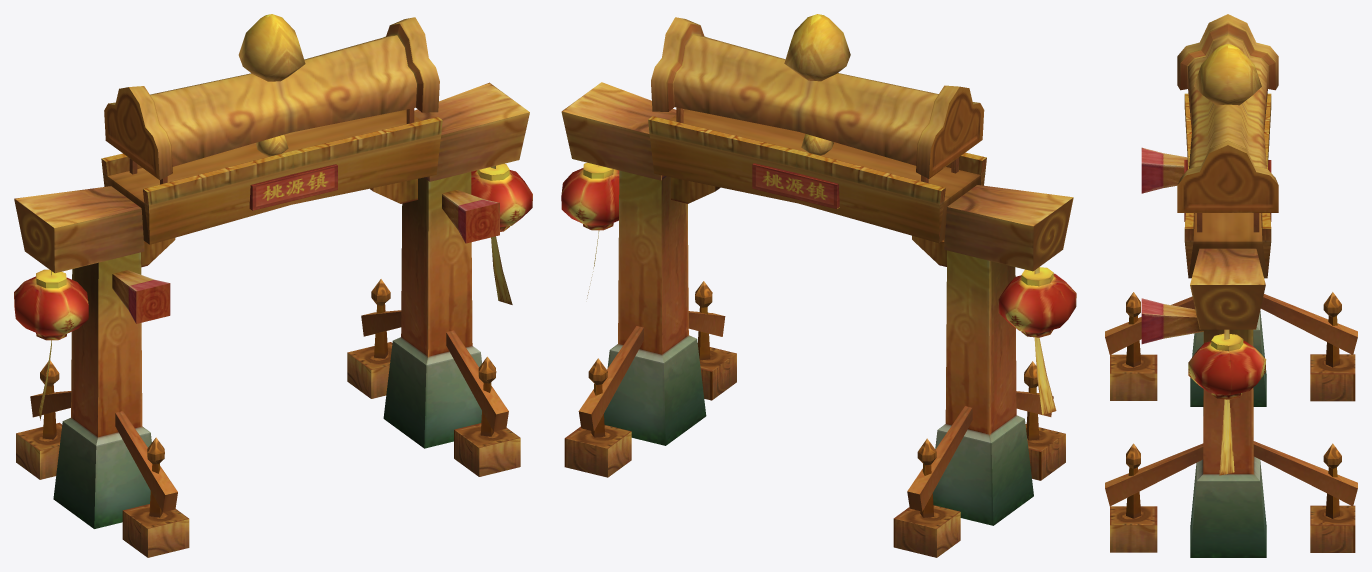
Rendered from taoyuanzhen_paifang.FBX.
The picture shows the model from 3 angles, left to right: view 1: azimuth 30°, elevation 25°; view 2: azimuth 150°, elevation 25°; view 3: azimuth 270°, elevation 25°; orthographic projection. The views are drawn at different scales.
Visible parts, largest first — view 1: taoyuanzhen_paifang; view 2: taoyuanzhen_paifang; view 3: taoyuanzhen_paifang.
Part boxes in pixels (<box>): taoyuanzhen_paifang: <box>14,14,532,557</box>; taoyuanzhen_paifang: <box>561,14,1076,557</box>; taoyuanzhen_paifang: <box>1105,14,1357,557</box>.
Size of the model in its own units: 705 by 598 by 324.
